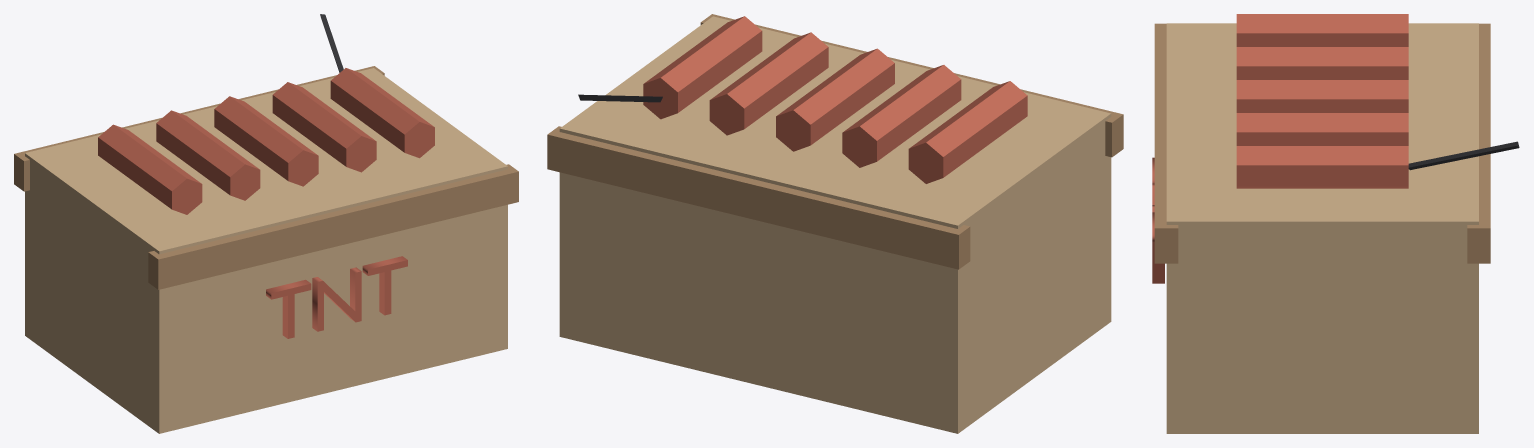
File: SM_Dynamite_Crate.glb
The picture shows the model from 3 angles, left to right: view 1: azimuth 30°, elevation 25°; view 2: azimuth 150°, elevation 25°; view 3: azimuth 270°, elevation 25°; orthographic projection. The views are drawn at different scales.
Parts seen in each view (by area): view 1: SM_Dynamite_Crate; view 2: SM_Dynamite_Crate; view 3: SM_Dynamite_Crate.
Boxes of the visible parts, box(x1,y1,x2,y2) form: SM_Dynamite_Crate: box(14, 14, 518, 433); SM_Dynamite_Crate: box(547, 14, 1123, 433); SM_Dynamite_Crate: box(1152, 14, 1519, 433).
Bounding box in the file's own units: 0.62 × 0.3834 × 0.4699.
